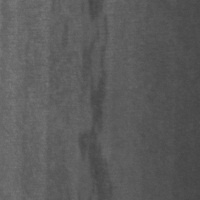inclusion: (75, 2, 119, 199)
